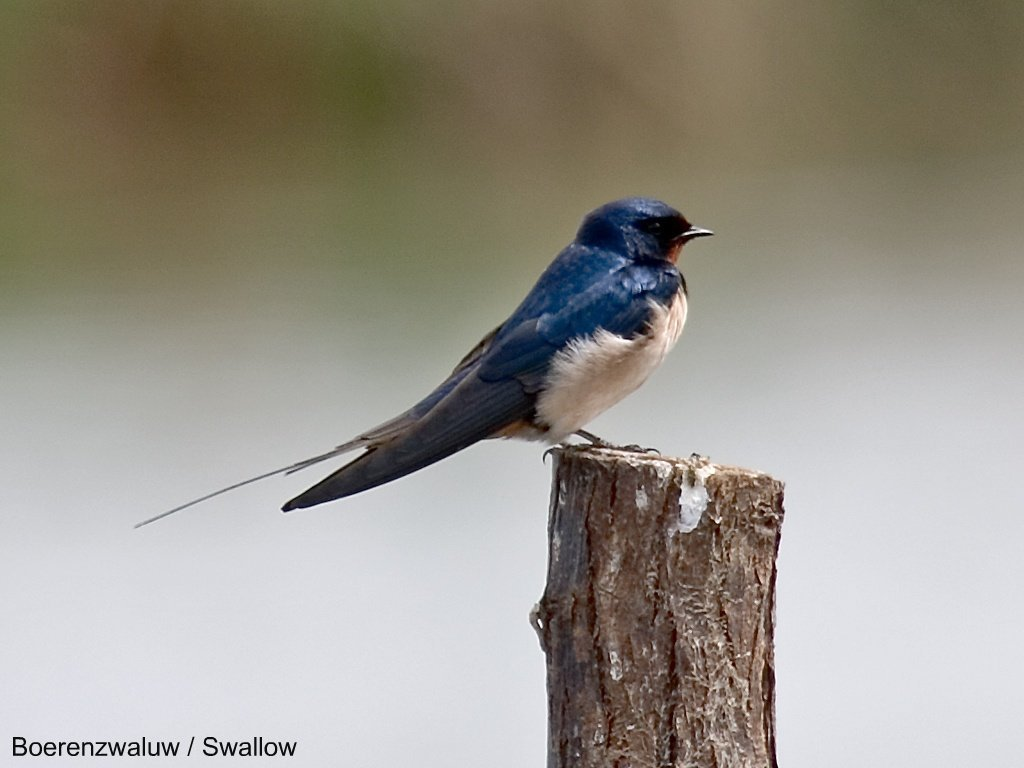Bird: (134, 195, 714, 530)
